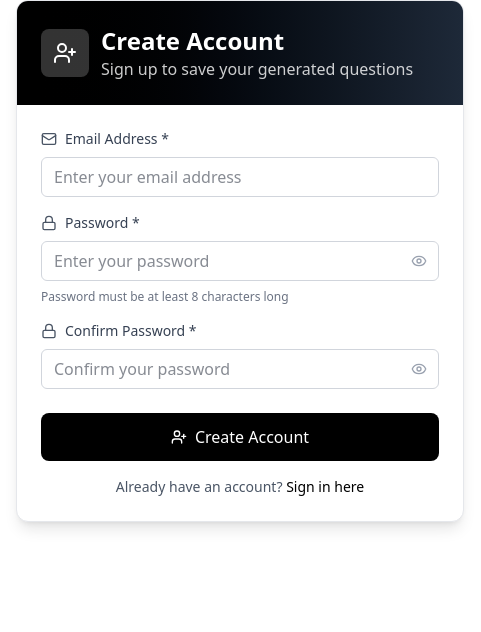
SignUpForm › Form Validation › shows validation error for empty email
Click the button with test id "signup-button": click(240, 437) [41, 413, 439, 461]
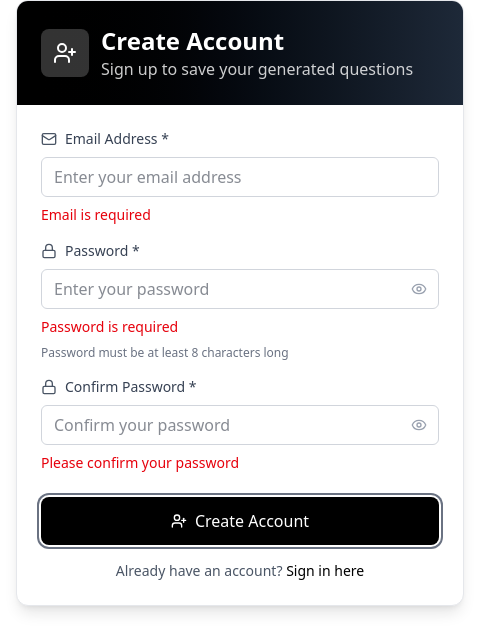
Expected: the text with test id "email-error" reads "Email is required", [41, 205, 151, 224]
